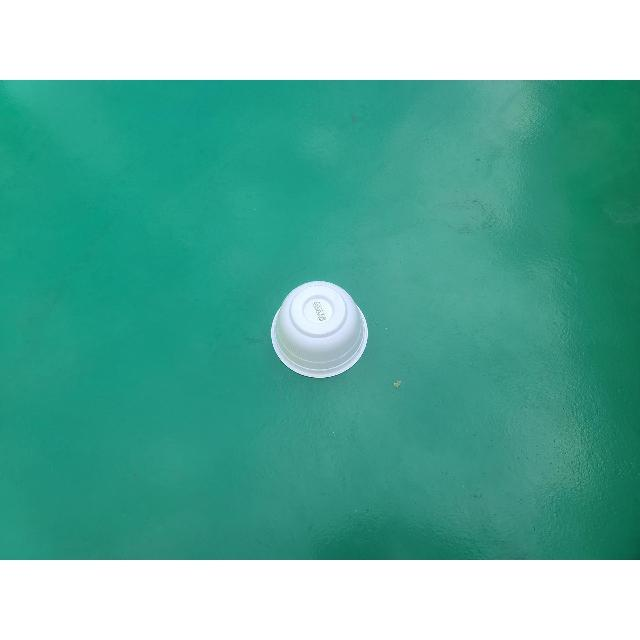Plastico descartable: (270, 282, 370, 382)
